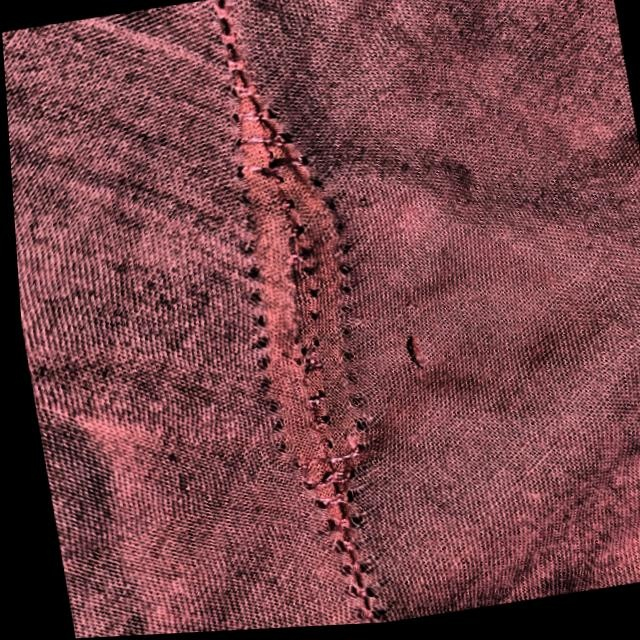seam: (133, 64, 479, 592)
